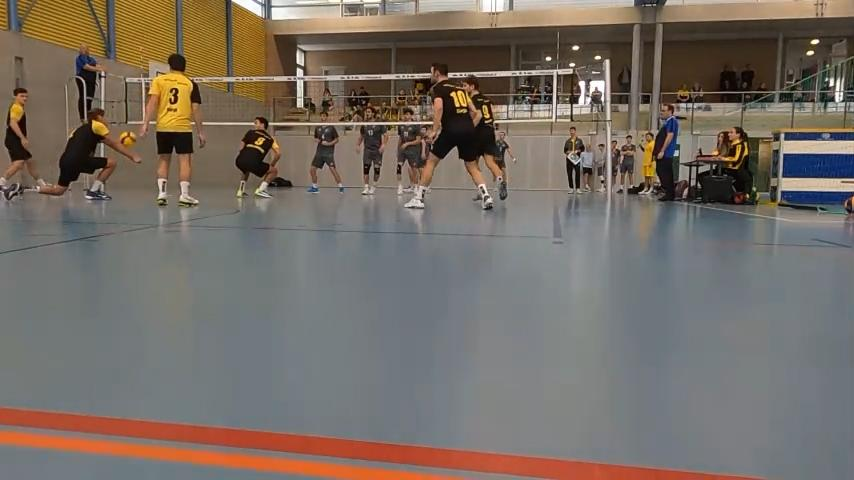ricezione: (2, 106, 140, 202)
